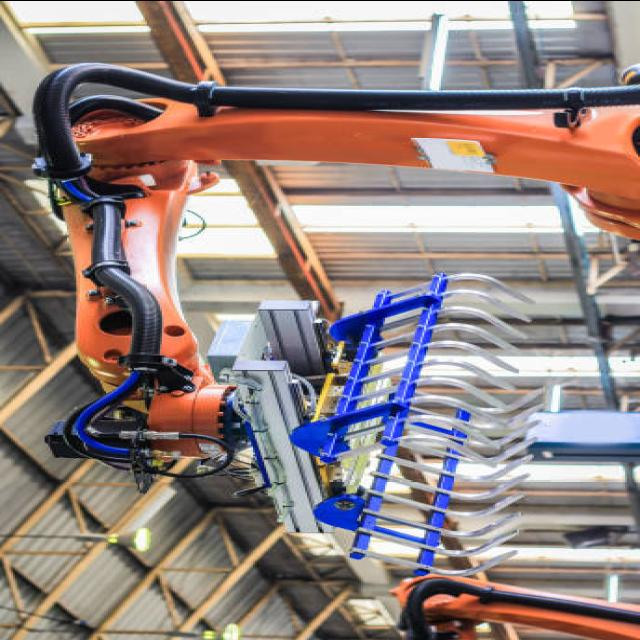Robotic-arm: (23, 64, 640, 480), (378, 577, 640, 640)
